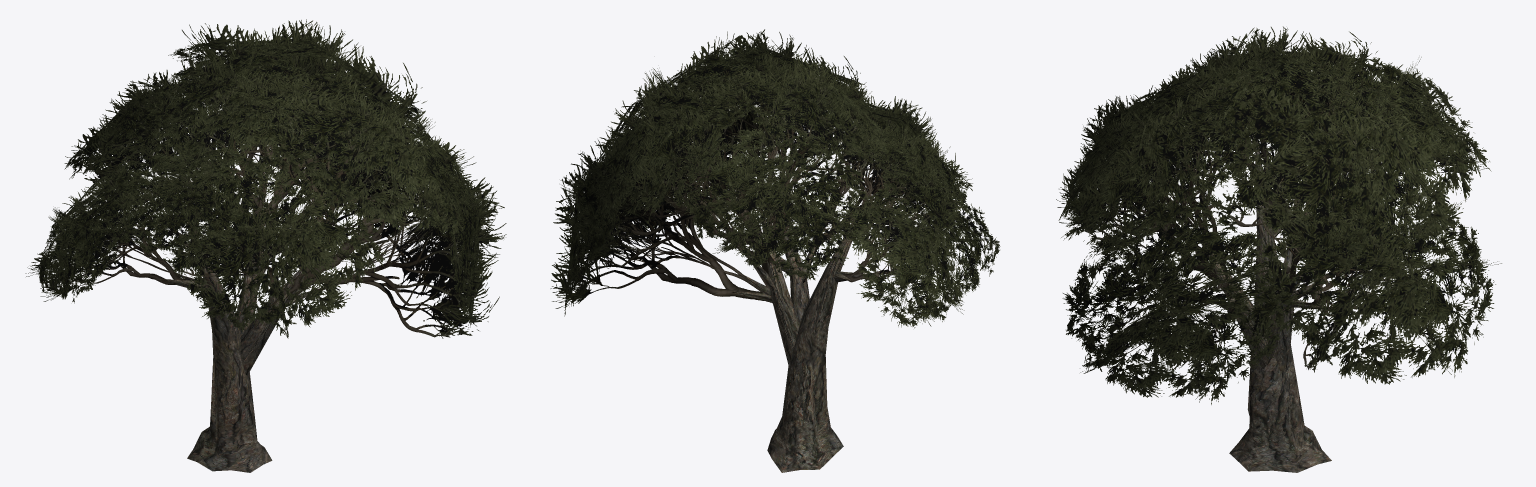
The model's file is Con_02_a_N.fbx.
3 renders of one model, left to right at view 1: azimuth 30°, elevation 25°; view 2: azimuth 150°, elevation 25°; view 3: azimuth 270°, elevation 25°, orthographic. The views are drawn at different scales.
Parts seen in each view (by area): view 1: Con_02_a, Con_02_Trunk_a; view 2: Con_02_a, Con_02_Trunk_a; view 3: Con_02_a, Con_02_Trunk_a.
Boxes of the visible parts, x1,y1,x2,y2 form: Con_02_a: (25, 19, 506, 338); Con_02_Trunk_a: (155, 210, 320, 472); Con_02_a: (550, 29, 1000, 328); Con_02_Trunk_a: (731, 193, 870, 472); Con_02_a: (1056, 26, 1501, 404); Con_02_Trunk_a: (1207, 141, 1331, 472).
Size of what is drawn, in the model's own units: 1708 by 1627 by 1553.
Materials: 2 (2 with a texture image).
